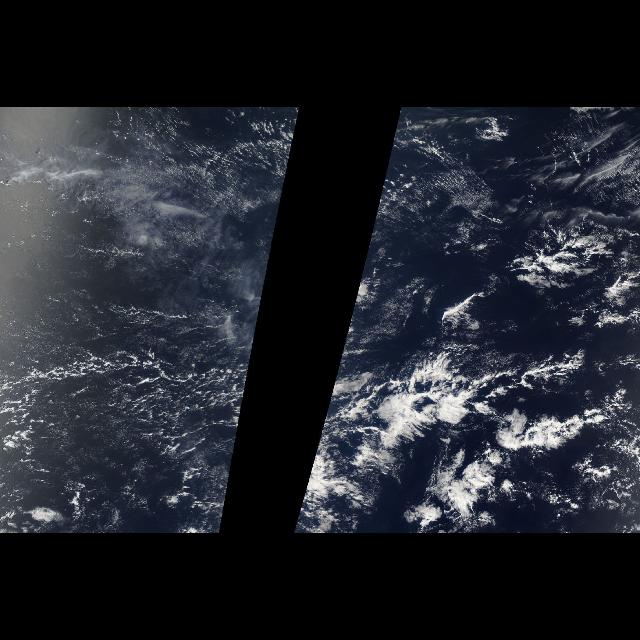Gravel: (1, 356, 245, 524)
Sugar: (22, 138, 250, 348)
